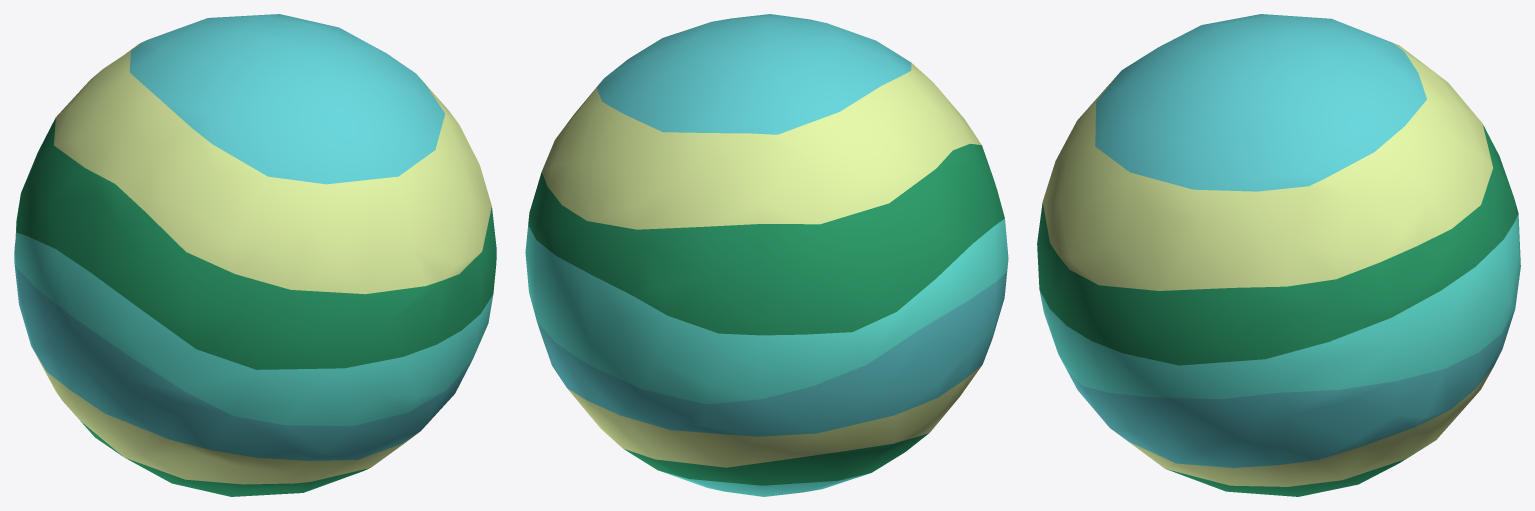
File: Uranus.obj
3 renders of one model, left to right at view 1: azimuth 30°, elevation 25°; view 2: azimuth 150°, elevation 25°; view 3: azimuth 270°, elevation 25°, orthographic.
Visible parts, largest first — view 1: Uranus; view 2: Uranus; view 3: Uranus.
Part boxes in pixels (x1,y1,x2,y2): Uranus: (14,14,496,496); Uranus: (525,14,1008,496); Uranus: (1037,14,1520,496).
Size of the model in its own units: 16.93 by 16.91 by 16.89.
